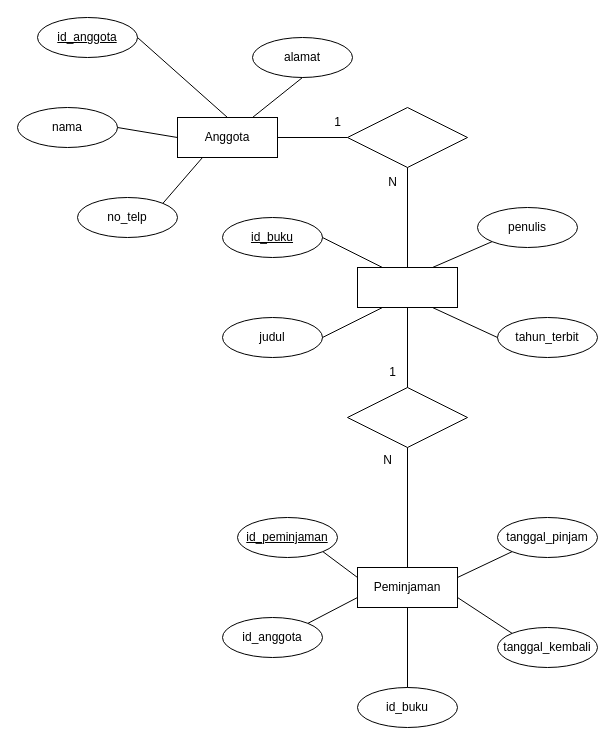
This 615x745 diagram has some shape labels left out. The shapes that lost their labels are listed below. From the top down, each one's centre as x and y in pixels, then its label:
point 407,137: Meminjam
point 407,287: Buku
point 407,417: Dipinjam
